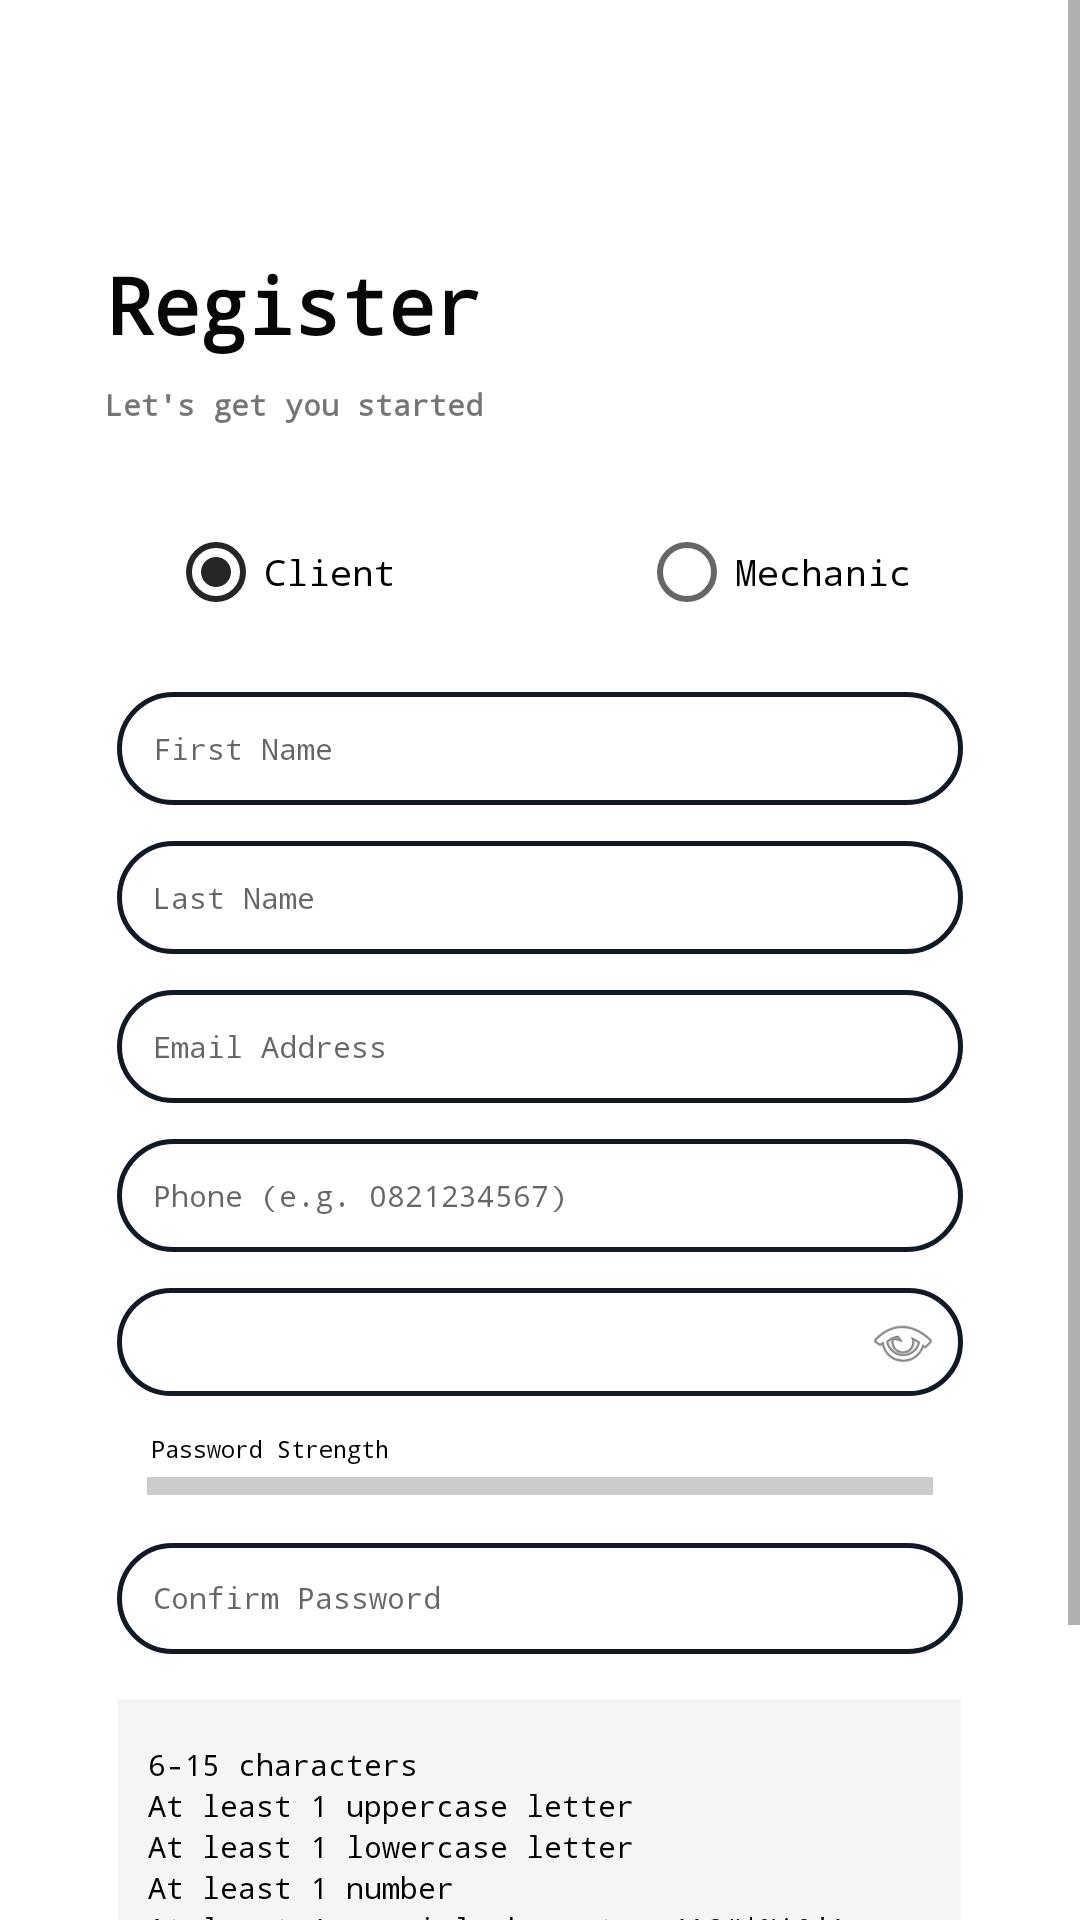

Named icons in this screenshot (1080×1920) and their centers, (x=x, y=y):
view: (x=903, y=1342)
